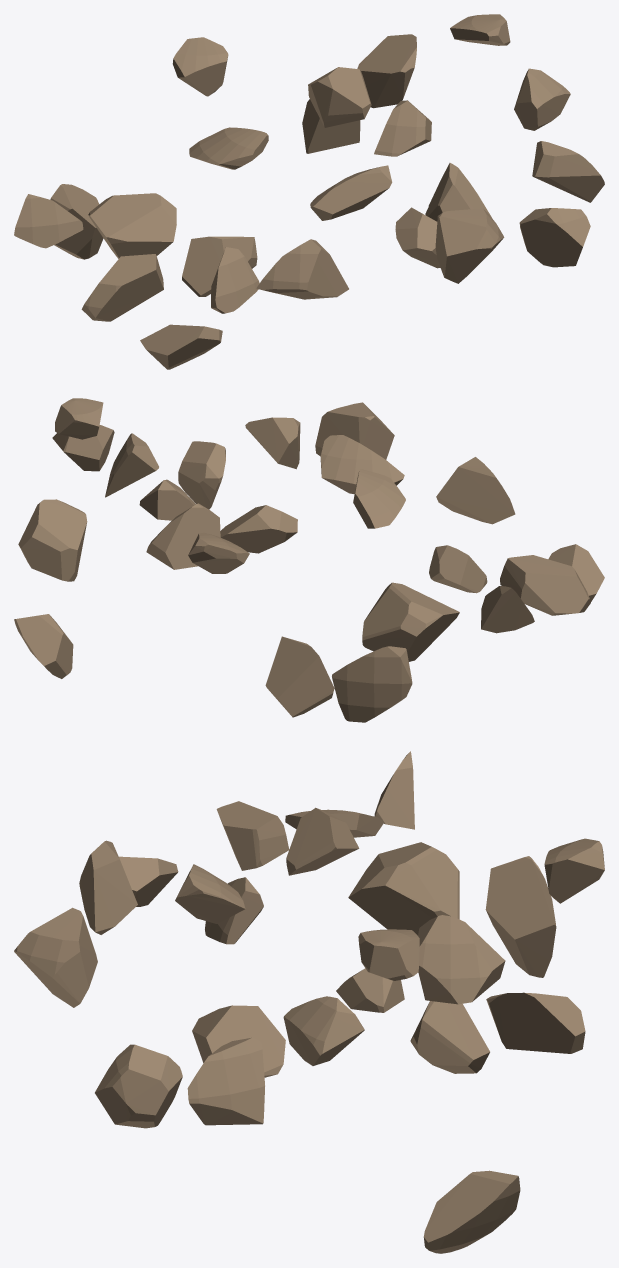
File: BouldersNi.fbx
3 renders of one model, top to bottom at view 1: azimuth 30°, elevation 25°; view 2: azimuth 150°, elevation 25°; view 3: azimuth 270°, elevation 25°, orthographic. The views are drawn at different scales.
Visible parts, largest first — view 1: Sphere_cell.254, Sphere_cell.156, Sphere_cell.108, Sphere_cell.276, Sphere_cell.178, Sphere_cell.192, Sphere_cell.173, Sphere_cell.095, Sphere_cell.165, Sphere_cell.044, Sphere_cell.085, Sphere_cell.102 (+10 smaller); view 2: Sphere_cell.254, Sphere_cell.196, Sphere_cell.192, Sphere_cell.108, Sphere_cell.044, Sphere_cell.276, Sphere_cell.165, Sphere_cell.146, Sphere_cell.156, Sphere_cell.260, Sphere_cell.178, Sphere_cell.140 (+10 smaller); view 3: Sphere_cell.254, Sphere_cell.196, Sphere_cell.146, Sphere_cell.095, Sphere_cell.140, Sphere_cell.178, Sphere_cell.156, Sphere_cell.192, Sphere_cell.044, Sphere_cell.259, Sphere_cell.260, Sphere_cell.276 (+10 smaller).
Boxes of the visible parts, x1,y1,x2,y2 form: Sphere_cell.254: (88,193,176,258); Sphere_cell.156: (435,208,504,283); Sphere_cell.108: (81,254,163,321); Sphere_cell.276: (256,239,348,299); Sphere_cell.178: (519,208,590,267); Sphere_cell.192: (357,34,416,108); Sphere_cell.173: (308,67,371,127); Sphere_cell.095: (532,141,604,202); Sphere_cell.165: (310,165,392,220); Sphere_cell.044: (182,236,257,296); Sphere_cell.085: (14,194,83,248); Sphere_cell.102: (140,324,222,369); Sphere_cell.254: (362,582,459,661); Sphere_cell.196: (332,646,412,722); Sphere_cell.192: (18,499,87,581); Sphere_cell.108: (500,555,590,615); Sphere_cell.044: (265,636,334,717); Sphere_cell.276: (436,457,515,524); Sphere_cell.165: (320,435,404,494); Sphere_cell.146: (146,503,220,569); Sphere_cell.156: (315,402,394,459); Sphere_cell.260: (220,505,297,553); Sphere_cell.178: (178,441,225,509); Sphere_cell.140: (14,614,73,678); Sphere_cell.254: (348,842,459,935); Sphere_cell.196: (485,856,556,977); Sphere_cell.146: (418,915,505,1004); Sphere_cell.095: (187,1037,264,1125); Sphere_cell.140: (423,1170,520,1253); Sphere_cell.178: (95,1044,182,1128); Sphere_cell.156: (14,907,97,1007); Sphere_cell.192: (486,992,585,1053); Sphere_cell.044: (410,1001,489,1073); Sphere_cell.259: (283,996,364,1065); Sphere_cell.260: (192,1005,285,1077); Sphere_cell.276: (79,840,137,934).
Size of the model in its own units: 417 by 203 by 326.
